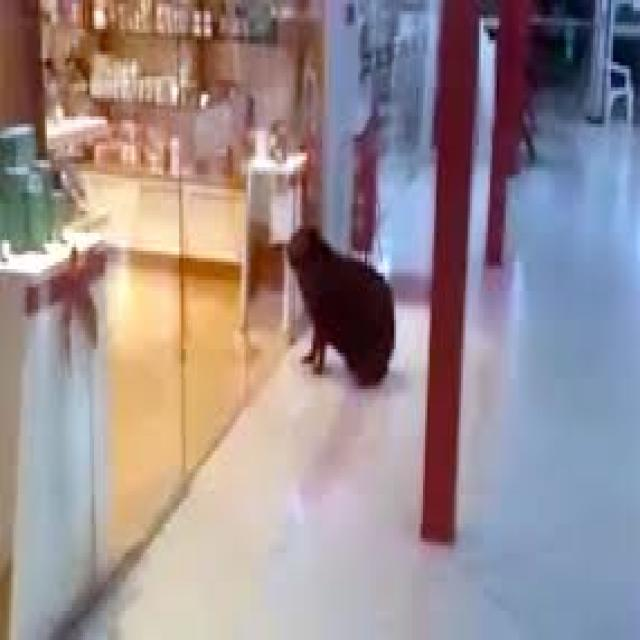capy: (280, 220, 399, 392)
